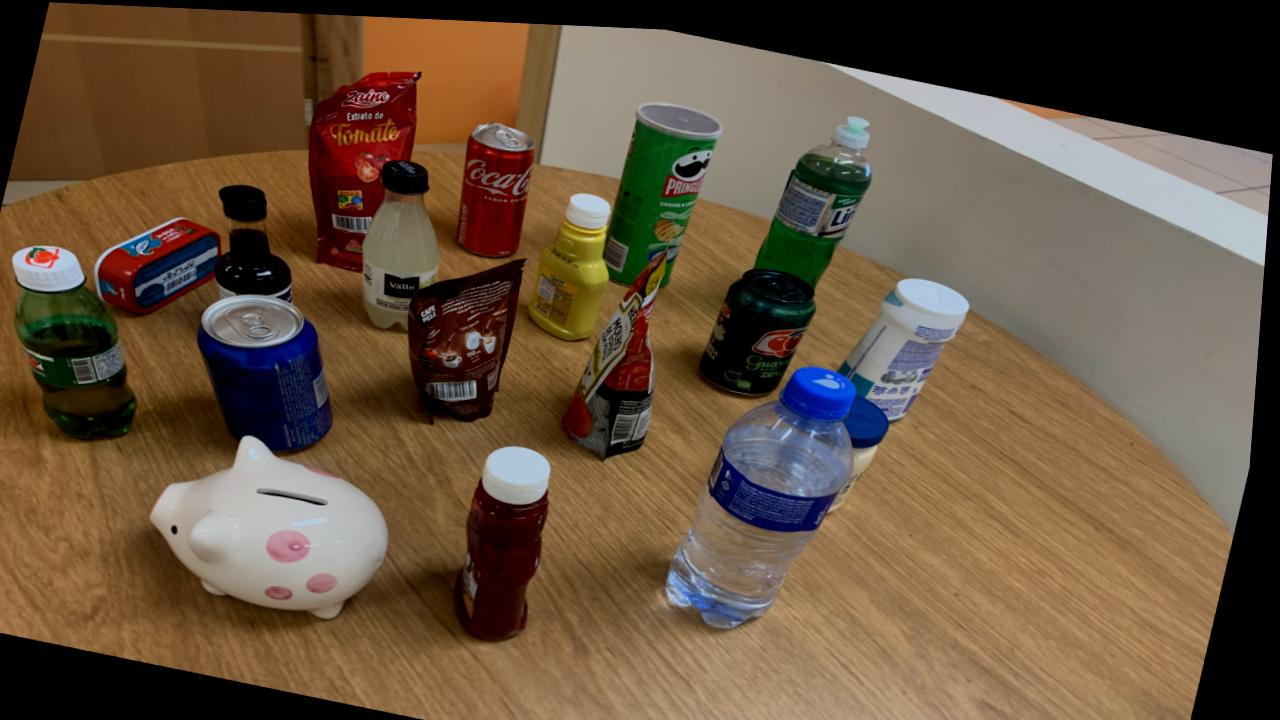Cleaner-Cleanup_Items: (843, 271, 972, 412)
Coffee-Pantry_Items: (412, 253, 530, 416)
Coke-Drinks: (459, 118, 537, 252)
Detergent-Cleanup_Items: (758, 107, 874, 279)
English_Sauce-Pantry_Items: (219, 182, 297, 300)
Guarana-Drinks: (15, 244, 143, 438)
Guarana_Can-Drinks: (705, 260, 821, 389)
Ketchup-Pantry_Items: (463, 441, 558, 634)
Mayonnaise-Pantry_Items: (838, 387, 895, 502)
Mustard-Pantry_Items: (533, 186, 614, 335)
Pig_Safe-Miscellaneous: (158, 432, 397, 615)
Pringles-Snacks: (607, 95, 725, 279)
Soda-Drinks: (366, 155, 444, 324)
Tomato_Sauce-Pantry_Items: (310, 67, 422, 267), (568, 251, 670, 452)
Tonic-Drinks: (201, 291, 340, 448)
Tuna_Can-Pantry_Items: (96, 215, 226, 312)
Water_Bottle-Drinks: (675, 359, 862, 620)
